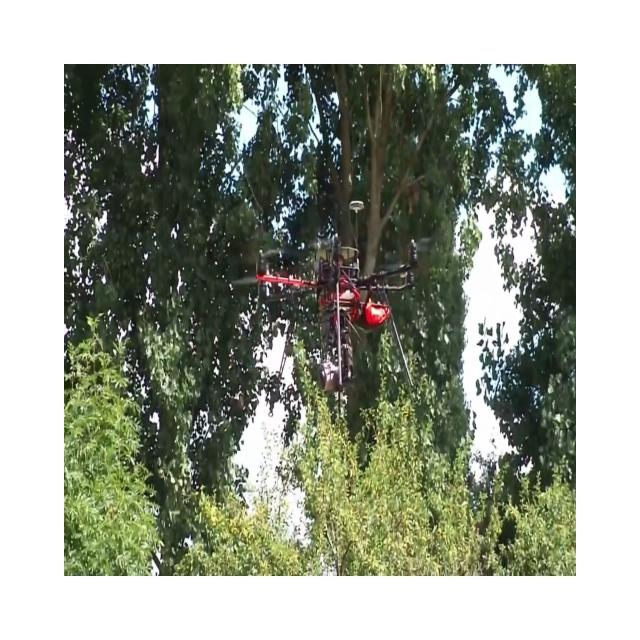drone: (254, 199, 421, 398)
